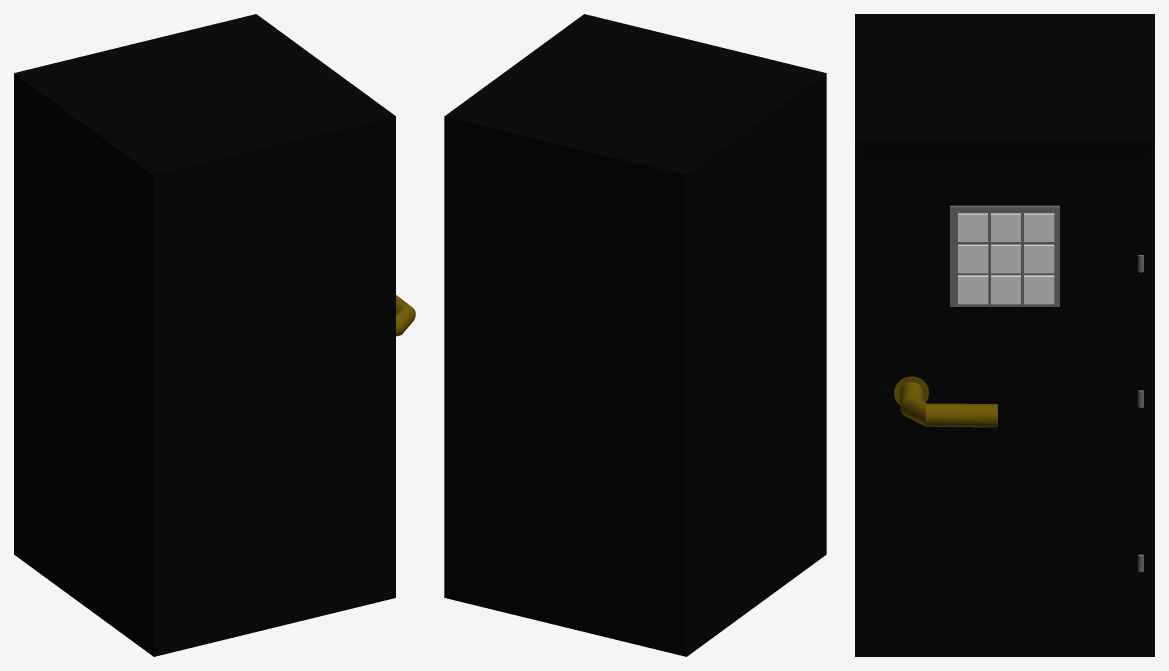
The model's file is Safe (1).fbx.
3 views of the same model, side by side, from view 1: azimuth 30°, elevation 25°; view 2: azimuth 150°, elevation 25°; view 3: azimuth 270°, elevation 25° (orthographic). The views are drawn at different scales.
Visible parts, largest first — view 1: Safe Shell; view 2: Safe Shell; view 3: Safe Door, Safe Shell, Keypad, Handle, Button7, Button9, Button4, Button6, button5, Button8, Button3, Button1 (+1 smaller).
Part boxes in pixels (x1,y1,x2,y2): Safe Shell: (14, 14, 395, 656); Safe Shell: (444, 14, 826, 656); Safe Door: (869, 164, 1140, 632); Safe Shell: (855, 14, 1154, 656); Keypad: (950, 205, 1059, 306); Handle: (900, 382, 997, 427); Button7: (958, 275, 988, 304); Button9: (1024, 275, 1054, 304); Button4: (958, 244, 988, 273); Button6: (1024, 244, 1054, 273); button5: (991, 244, 1020, 273); Button8: (991, 275, 1020, 304); Button3: (1024, 213, 1054, 241); Button1: (958, 213, 987, 241).
Size of the model in its own units: 12226 by 19000 by 10000.
